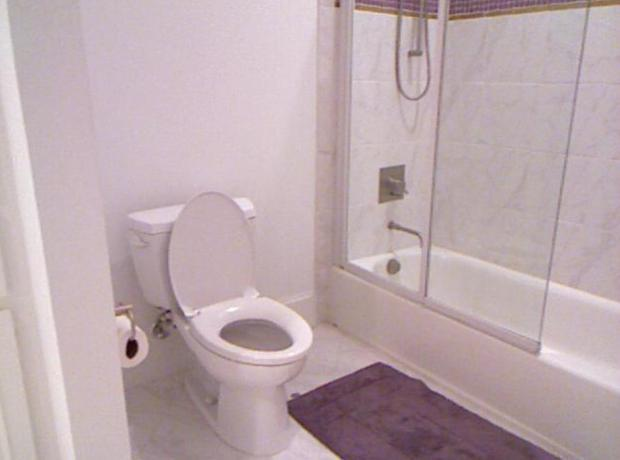Ducha: (336, 6, 619, 454)
Sanitario: (124, 186, 313, 458)
